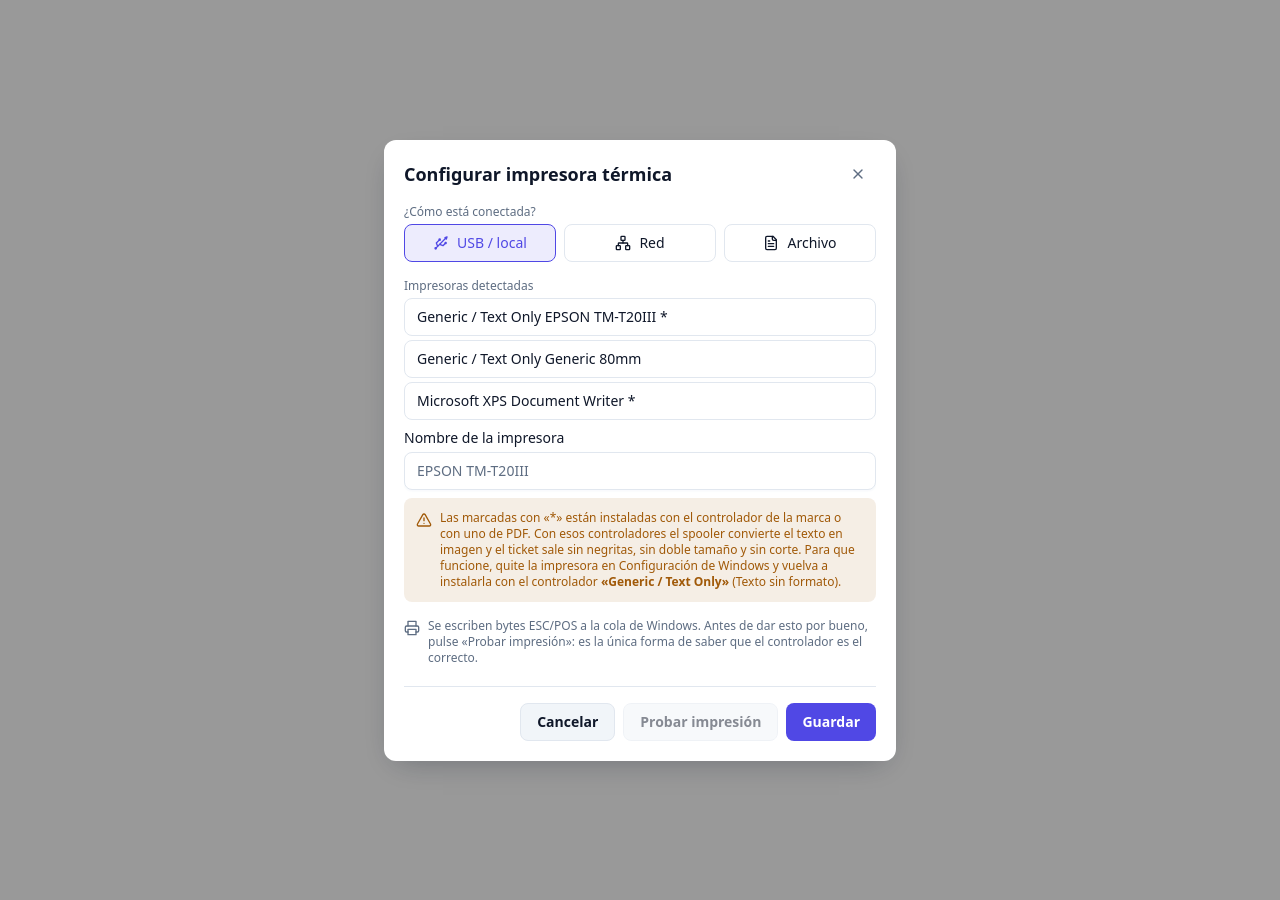
Scenario: ConfigurarImpresoraModal › probar guarda primero el destino y luego manda la prueba
The image size is (1280, 900).
What coordinates should you click on to do the following:
click the button "Generic / Text Only Generic 80mm"
I would click on:
 (640, 358)
Its box is [404,340,876,378].
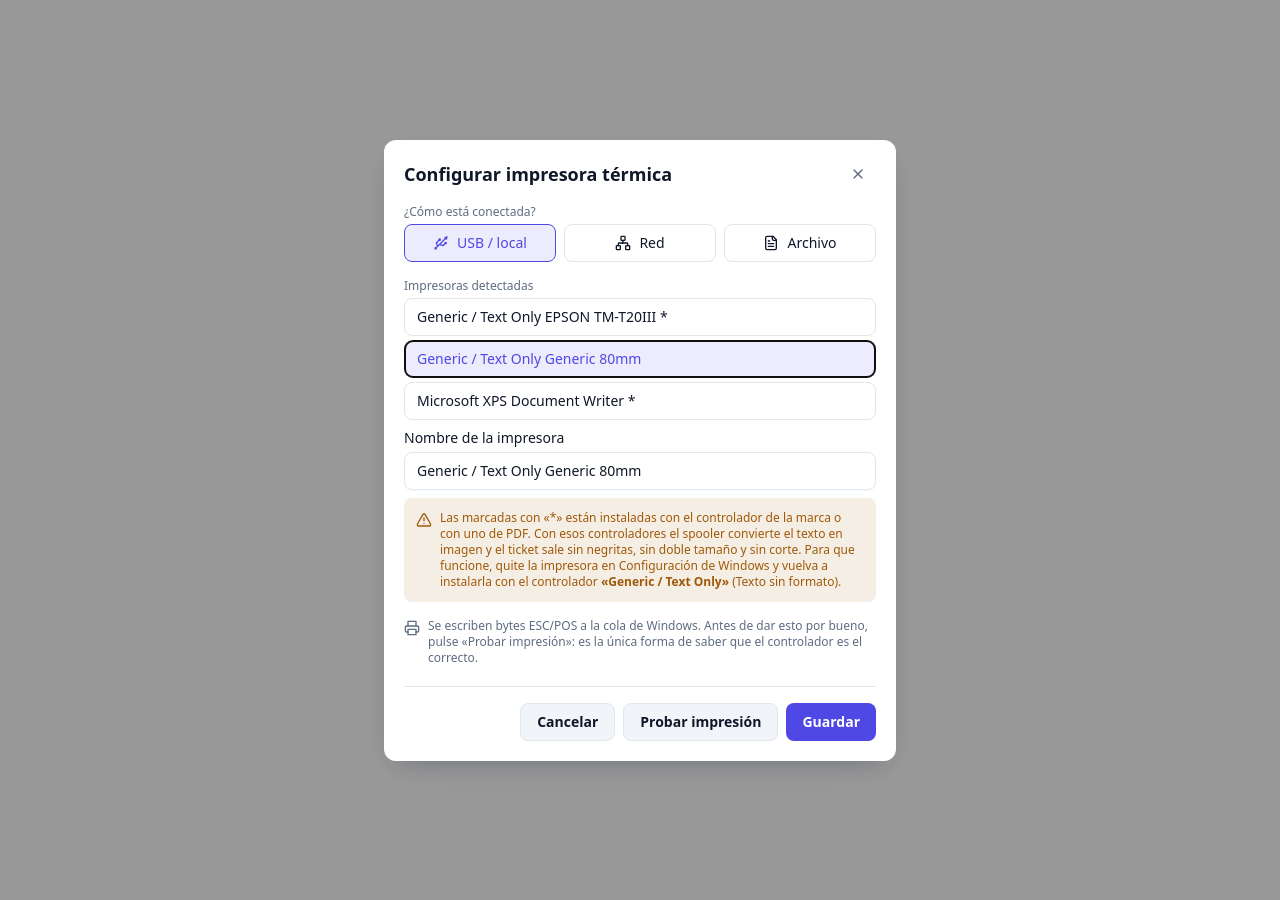
What coordinates should you click on to do the following:
click the button "Probar impresión"
I would click on:
 (701, 722)
Its box is [623,702,778,740].
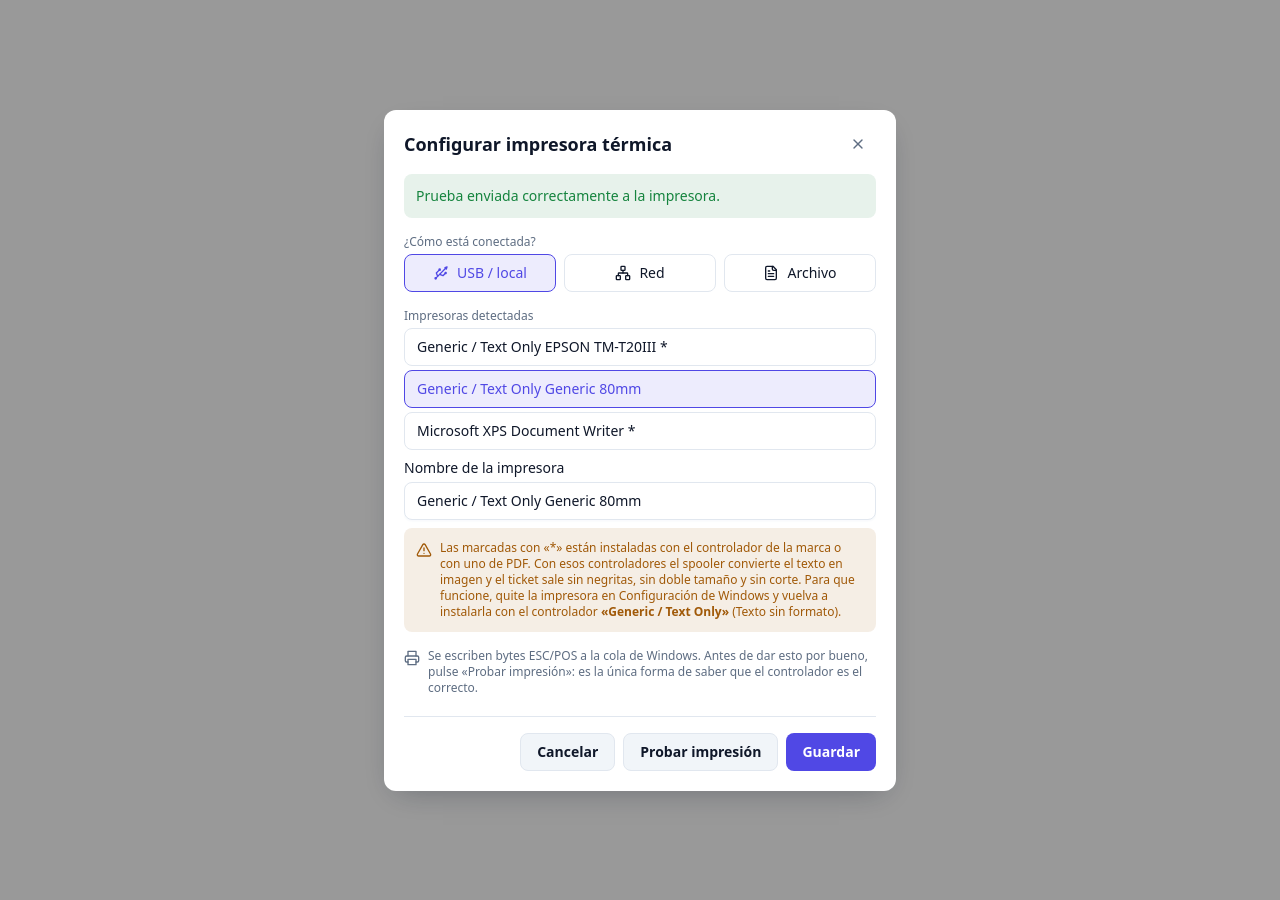
Expected: the message shows "Prueba enviada", [416,186,720,204]
